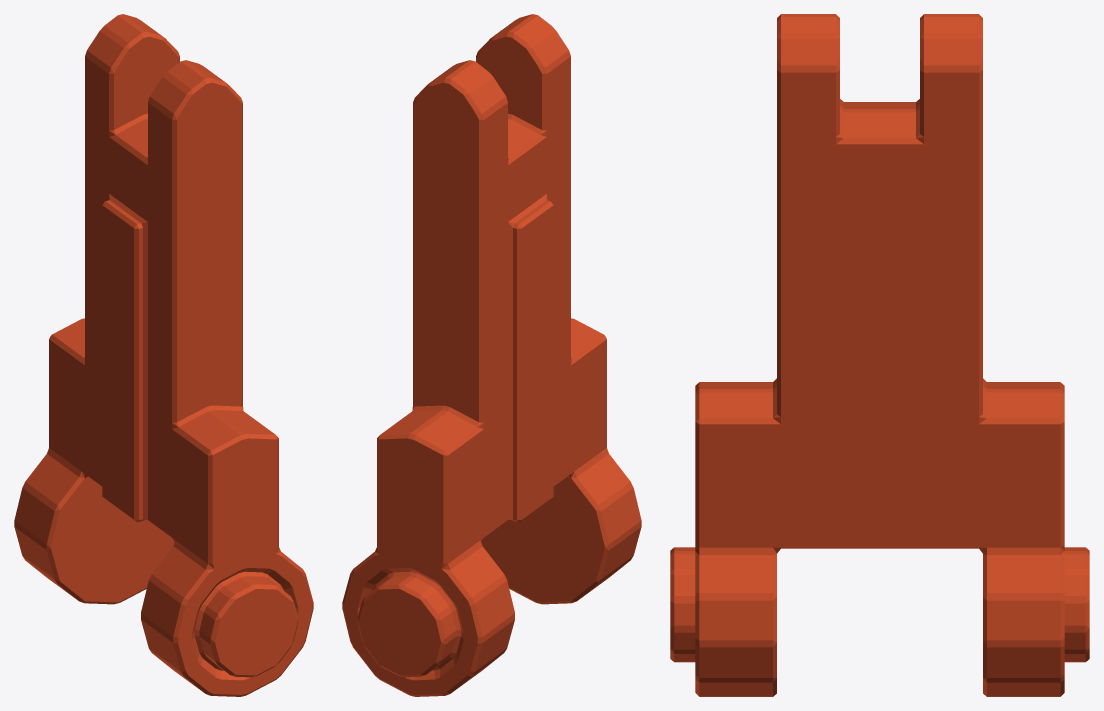
3 views of the same model, side by side, from view 1: azimuth 30°, elevation 25°; view 2: azimuth 150°, elevation 25°; view 3: azimuth 270°, elevation 25° (orthographic). The views are drawn at different scales.
Parts seen in each view (by area): view 1: node0; view 2: node0; view 3: node0.
Boxes of the visible parts, x1=… form: node0: x1=14, y1=14, x2=313, y2=696; node0: x1=342, y1=14, x2=641, y2=696; node0: x1=670, y1=14, x2=1089, y2=696.
Size of the model in its own units: 1.34 by 3.05 by 5.4.
